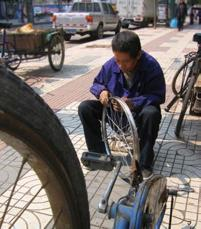person: (78, 31, 167, 181)
